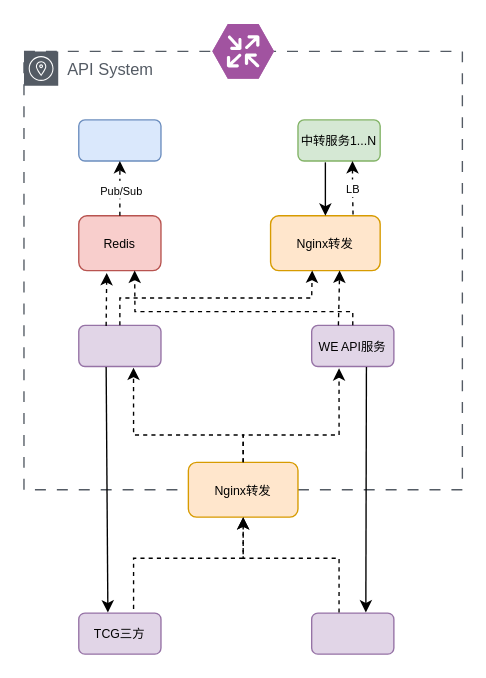
Some shapes in this 486 by 678 pixel diagram are drawn without their labels. The centre of each missing label's shape, as x and y in pixels:
TCG API服务: point (119, 345)
WE三方: point (352, 633)
游戏列表服务: point (119, 140)
